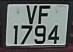1: (12, 23, 21, 47)
4: (47, 22, 63, 47)
7: (18, 23, 35, 47)
9: (33, 25, 48, 46)
F: (37, 4, 53, 27)
V: (25, 6, 39, 25)
